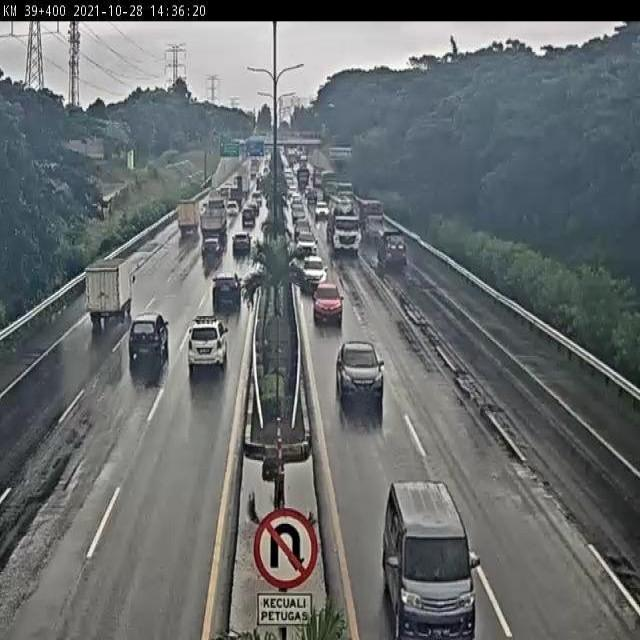big truck: (325, 190, 360, 254), (199, 198, 229, 238)
car: (382, 478, 480, 640), (333, 337, 386, 407), (185, 313, 229, 376), (128, 311, 170, 365), (208, 271, 244, 316), (310, 277, 344, 319), (300, 247, 326, 289), (230, 229, 252, 259), (200, 235, 223, 261), (295, 229, 317, 256), (237, 205, 257, 231)
small truck: (86, 255, 134, 320), (376, 221, 410, 271), (174, 197, 203, 243)
